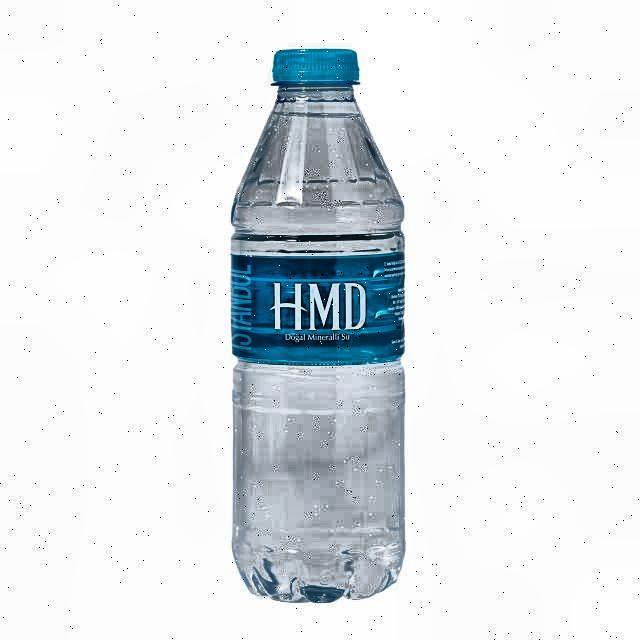plastic: (228, 46, 408, 608)
